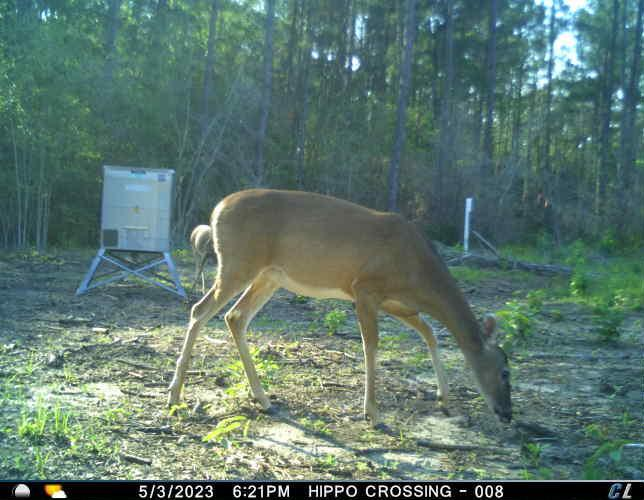Deer: (158, 184, 517, 428), (187, 217, 219, 289)
